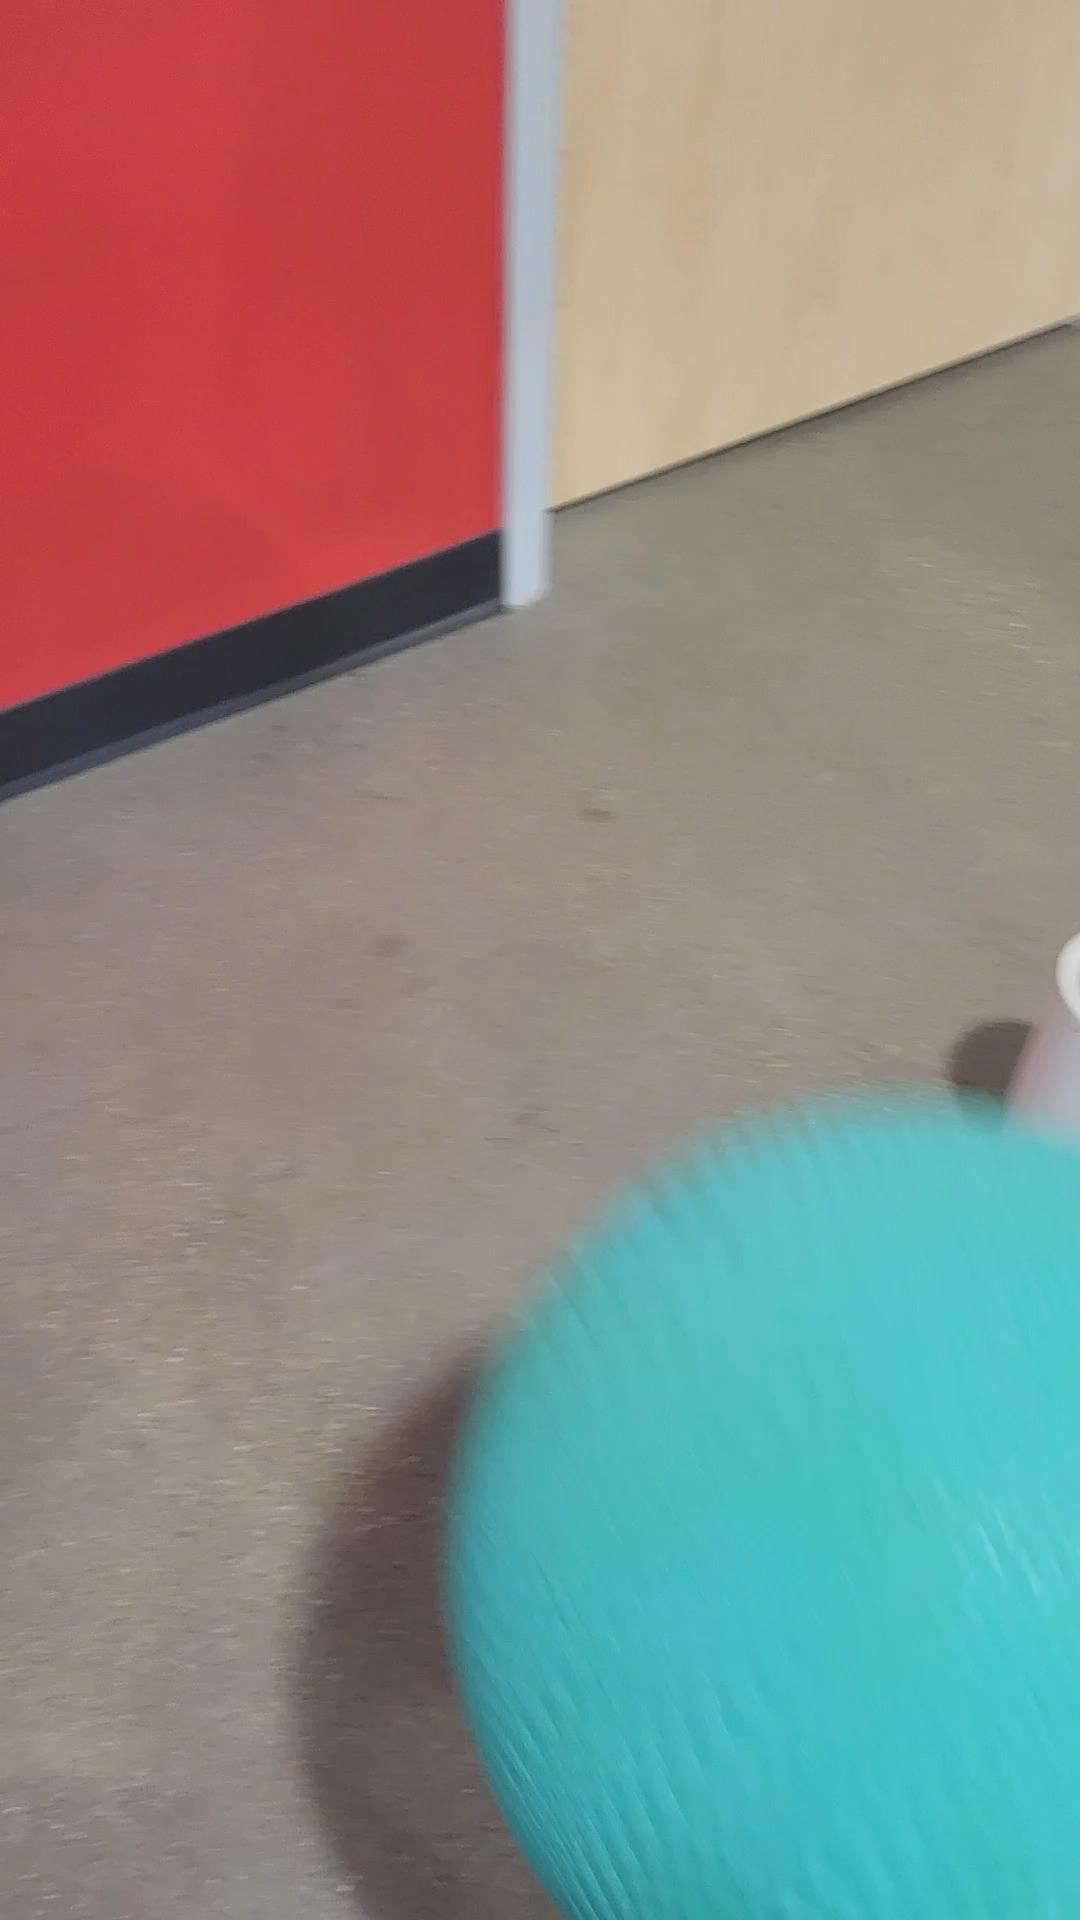algae: (440, 1106, 1080, 1920)
coral: (1026, 931, 1080, 1125)
